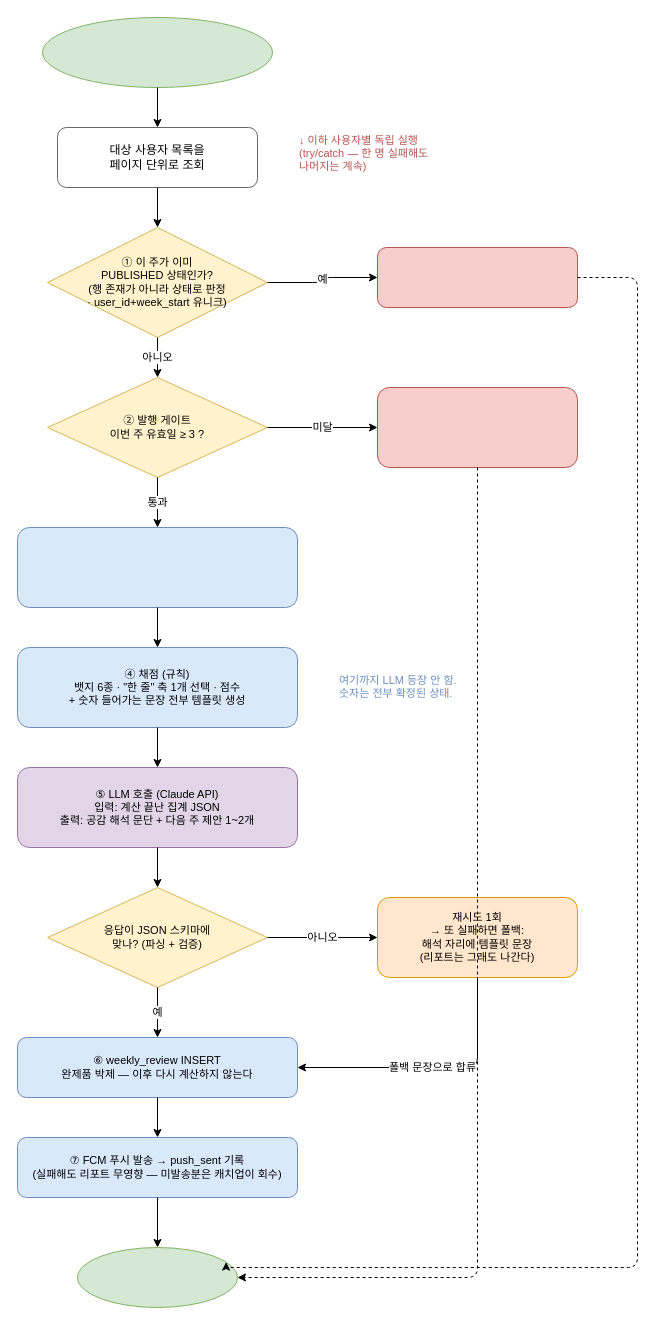
Some shapes in this 663 by 1325 pixel diagram are drawn without their labels. The shapes that lost their labels are listed below. From the top down, each one's centre as x and y in pixels, then its label:
(x=157, y=52): ⓪ 월 08:00 KST @Scheduled 발동 (+ 서버 기동 시 캐치업 — 놓친 주가 있으면 이어서)
(x=477, y=277): skip (멱등성) 재실행해도 두 번 안 만든다
(x=477, y=427): 침묵이 기본값: status=INSUFFICIENT 저장 LLM 호출 없음 → 비용 0 (늦은 데이터 오면 캐치업이 재평가)
(x=157, y=567): ③ 집계 (SQL — 모든 숫자의 출생지) 요일별 분 · 총량 · 목표 달성일 · 완주율 최장/평균 세션 · 짝맞춤 Δ% (null ≠ 0분)
(x=157, y=1277): 다음 사용자로
